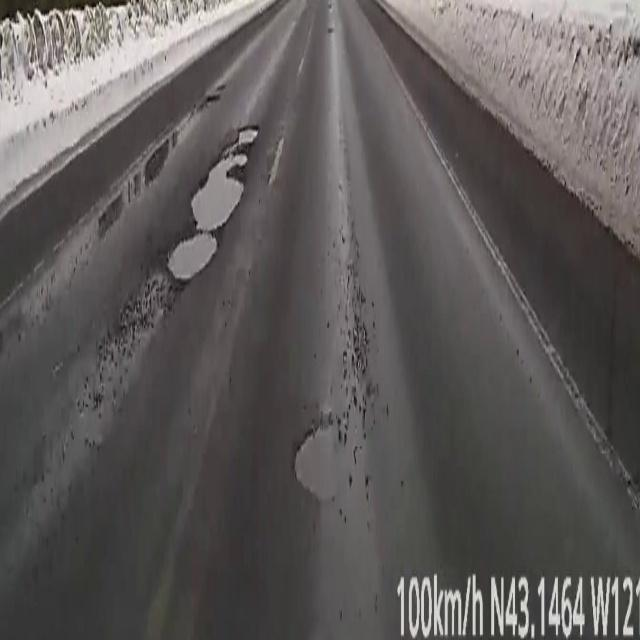pothole: (168, 124, 258, 281), (295, 412, 368, 502)
